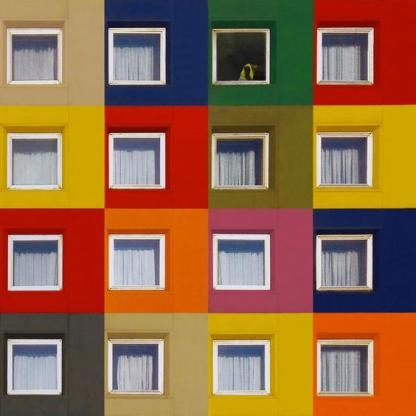Building Outline: (0, 0, 415, 415)
Facade: (0, 0, 415, 415)
Floor: (0, 0, 415, 104), (0, 214, 415, 312), (0, 319, 415, 415), (0, 111, 415, 207), (0, 319, 415, 414)
Floor Slab: (0, 104, 415, 111), (0, 312, 415, 319), (0, 208, 415, 214)
Window: (317, 29, 373, 86), (317, 339, 373, 396), (317, 133, 373, 190), (317, 235, 373, 292), (7, 29, 63, 86), (7, 339, 63, 396), (7, 133, 63, 190), (7, 235, 63, 292), (109, 29, 165, 86), (109, 339, 165, 396), (109, 133, 165, 190), (109, 235, 165, 292), (213, 29, 269, 86), (213, 339, 269, 396), (213, 133, 269, 190), (213, 235, 269, 292)
